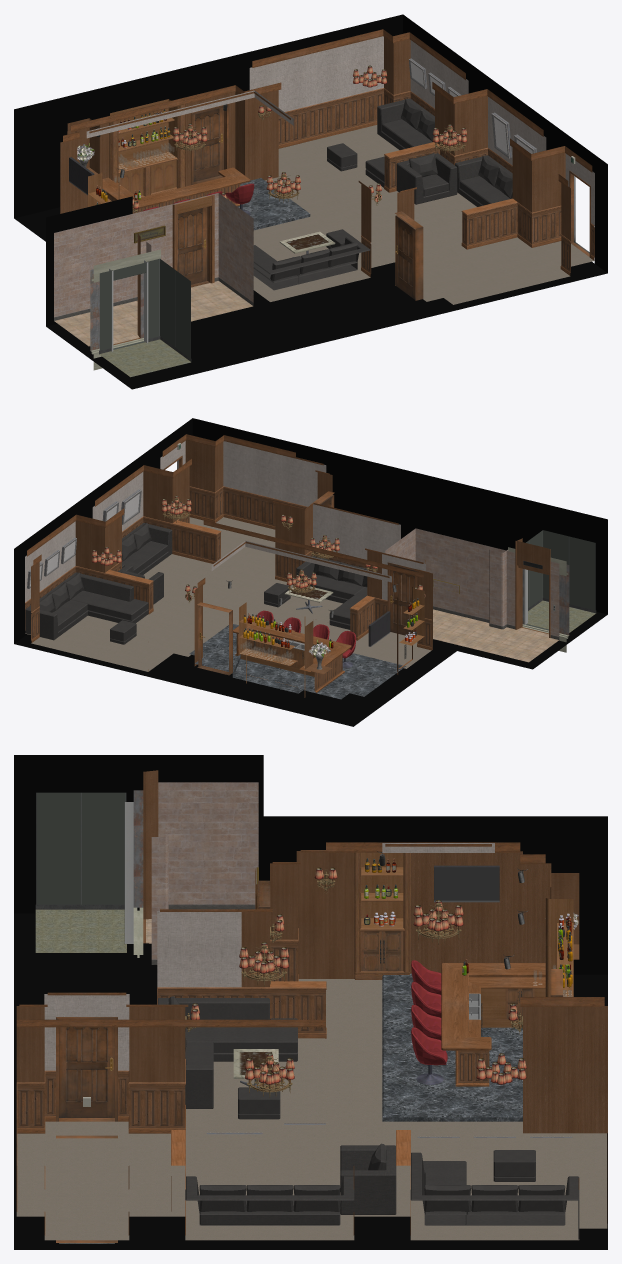
The model's file is serena-room.glb.
The picture shows the model from 3 angles, top to bottom: view 1: azimuth 30°, elevation 25°; view 2: azimuth 150°, elevation 25°; view 3: azimuth 270°, elevation 25°; orthographic projection. The views are drawn at different scales.
Visible parts, largest first — view 1: SerenaRoomGeometry; view 2: SerenaRoomGeometry; view 3: SerenaRoomGeometry.
Part boxes in pixels (x1,y1,x2,y2): SerenaRoomGeometry: (14,14,607,389); SerenaRoomGeometry: (14,418,607,726); SerenaRoomGeometry: (14,755,607,1249).
Size of the model in its own units: 14.24 by 3.44 by 10.56.
65 materials, 65 textured.
